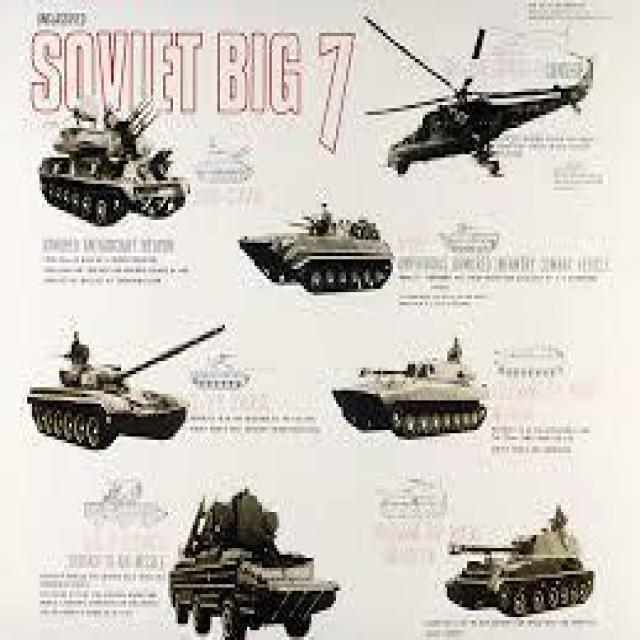Tanks: (144, 458, 386, 632), (235, 154, 430, 348), (28, 58, 219, 254), (40, 299, 247, 456), (296, 351, 532, 466), (422, 461, 580, 622)
